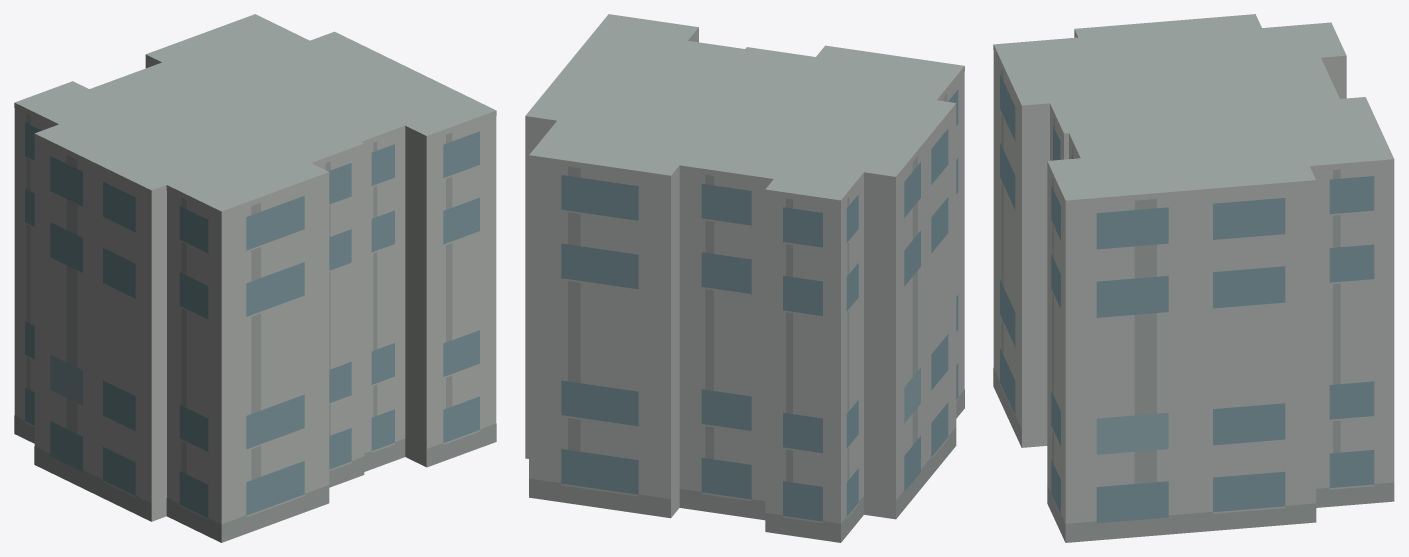
Rendered from survey-upis-32606667.glb.
3 renders of one model, left to right at view 1: azimuth 30°, elevation 25°; view 2: azimuth 150°, elevation 25°; view 3: azimuth 270°, elevation 25°, orthographic. The views are drawn at different scales.
Parts seen in each view (by area): view 1: survey-upis-32606667.tmp; view 2: survey-upis-32606667.tmp; view 3: survey-upis-32606667.tmp.
Part boxes in pixels (x1,y1,x2,y2): survey-upis-32606667.tmp: [14, 14, 496, 542]; survey-upis-32606667.tmp: [525, 14, 964, 542]; survey-upis-32606667.tmp: [993, 14, 1394, 542].
Bounding box in the file's own units: 16.96 × 14.5 × 15.4.
